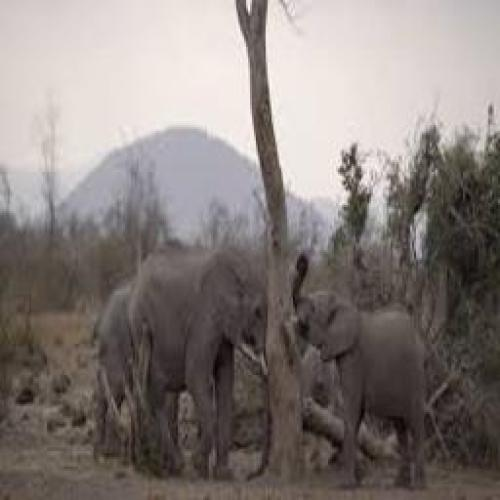african_elephant-endangered: (129, 248, 278, 482), (293, 253, 432, 493)
